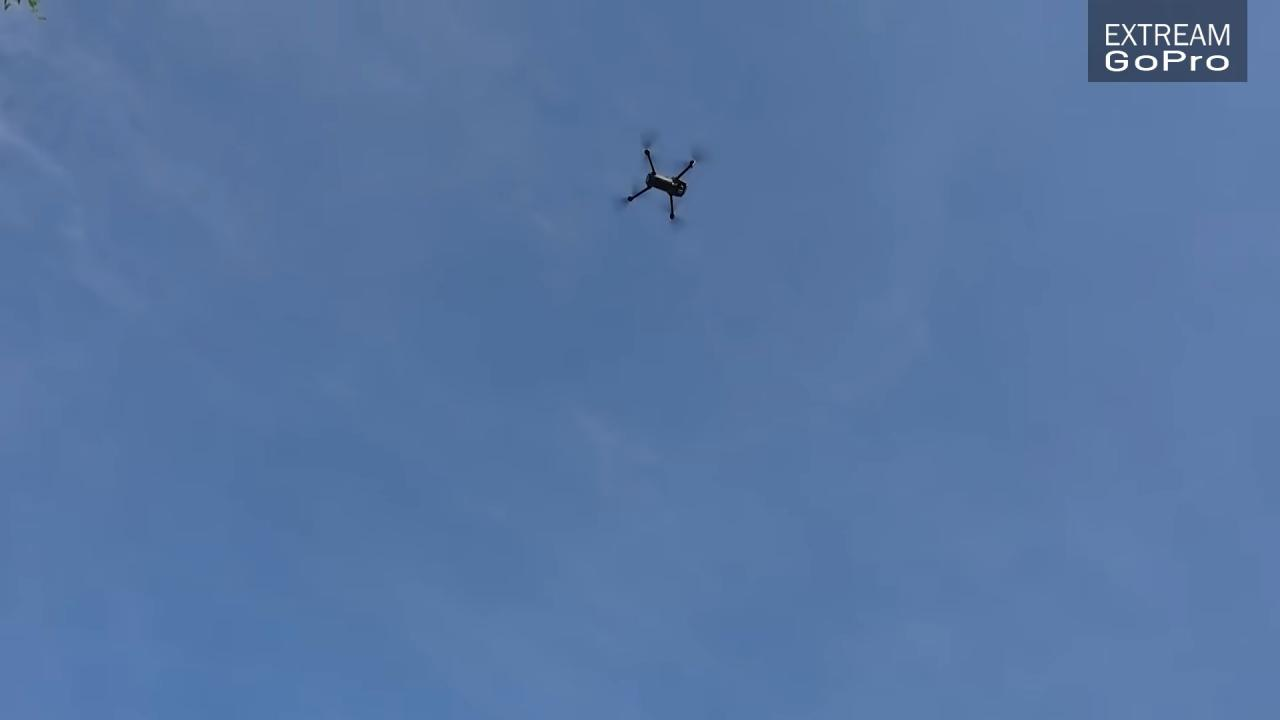Drone: (600, 122, 725, 240)
